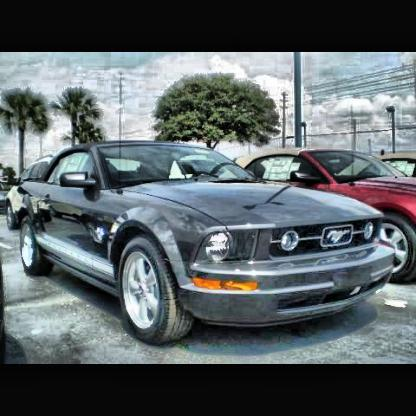Ford Mustang Convertible 2007: (15, 143, 401, 354)
